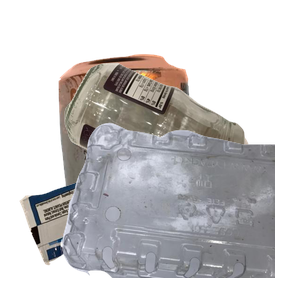glass: (62, 60, 300, 240)
metal: (56, 52, 242, 232)
plastic: (60, 120, 300, 300)
trash: (17, 123, 257, 300)
